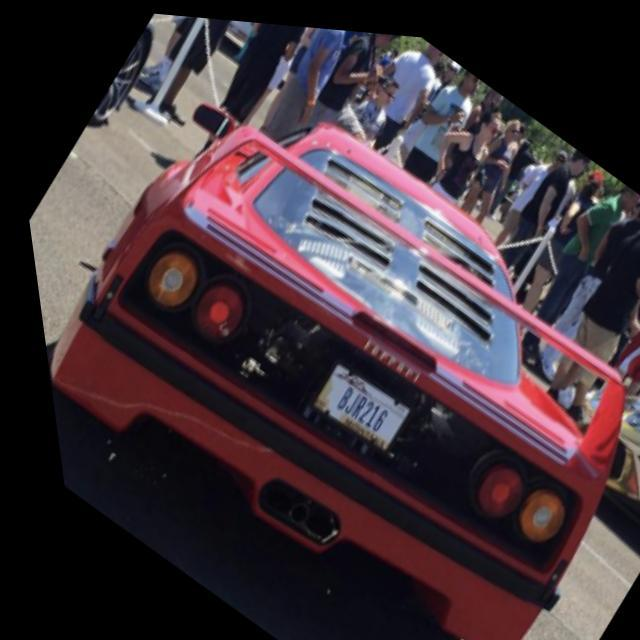license_plate: (296, 352, 402, 450)
